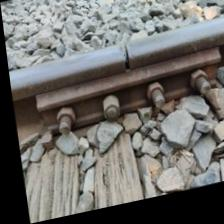person: (96, 33, 149, 88)
